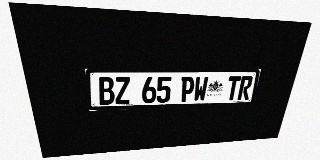5: (156, 77, 172, 103)
6: (142, 77, 157, 103)
B: (97, 77, 115, 105)
P: (180, 76, 195, 102)
R: (237, 76, 253, 100)
T: (225, 76, 241, 100)
W: (193, 76, 209, 102)
Z: (114, 77, 130, 104)
